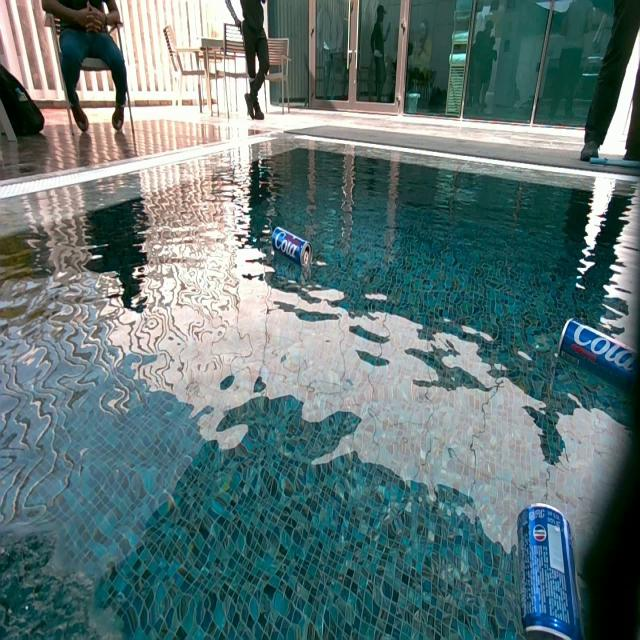Cans: (516, 502, 596, 640), (556, 319, 638, 394), (271, 227, 312, 268)
